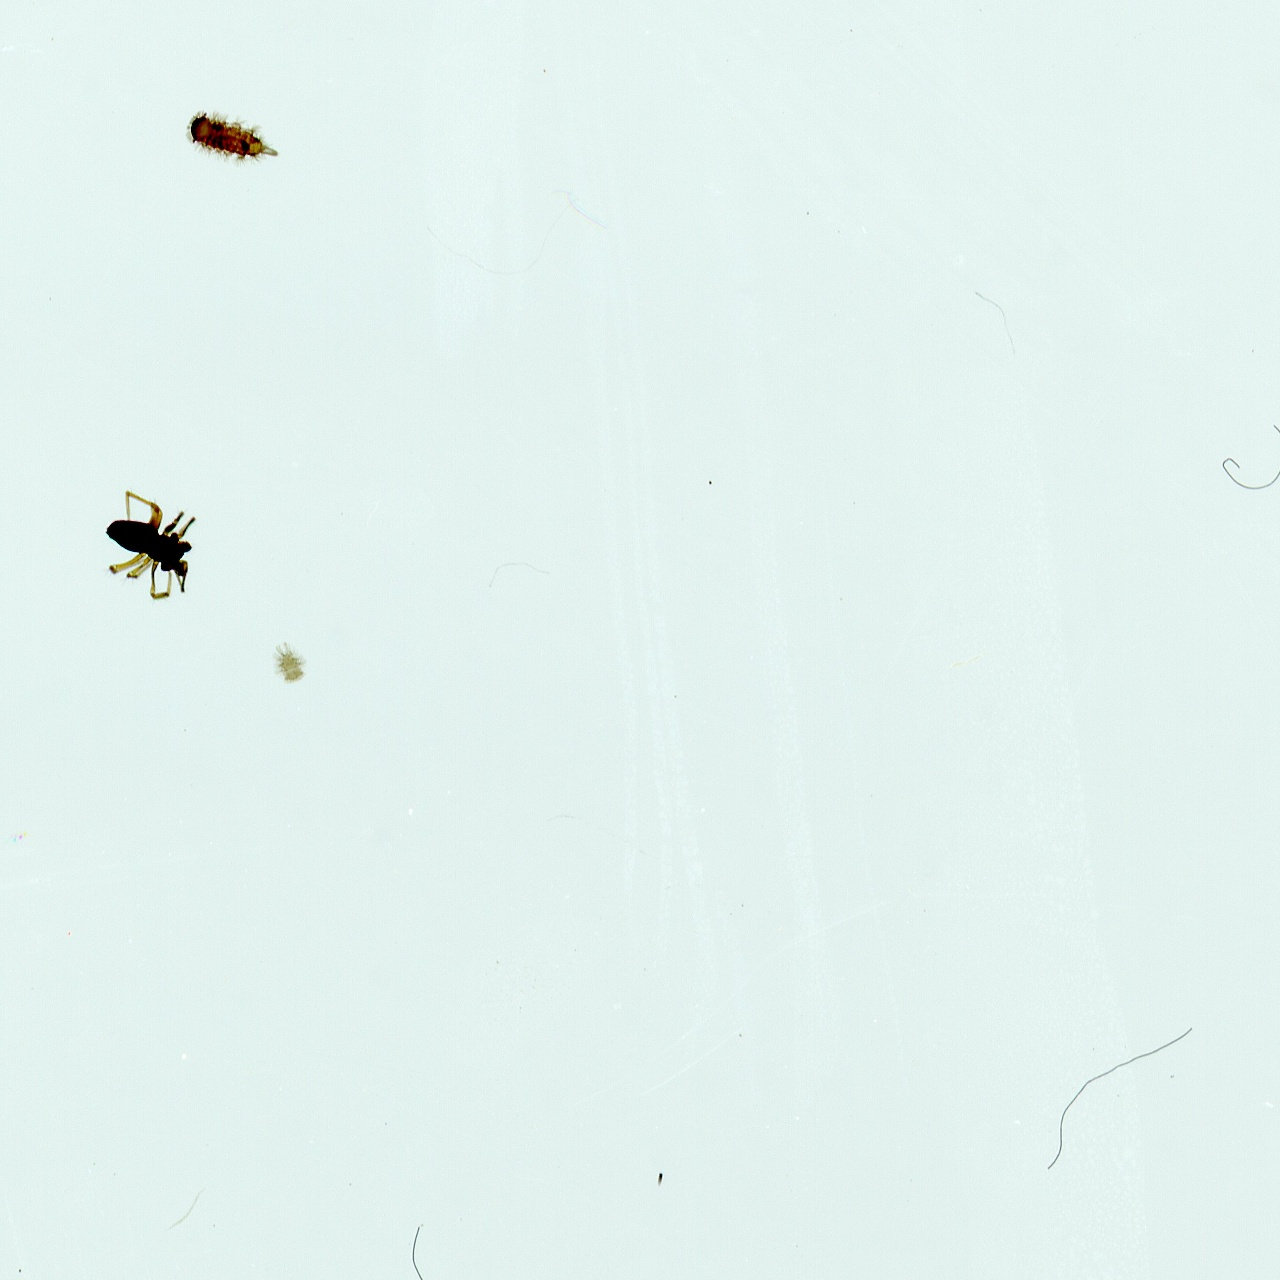arthropod: (97, 490, 200, 602), (186, 109, 280, 171), (261, 644, 314, 685)
